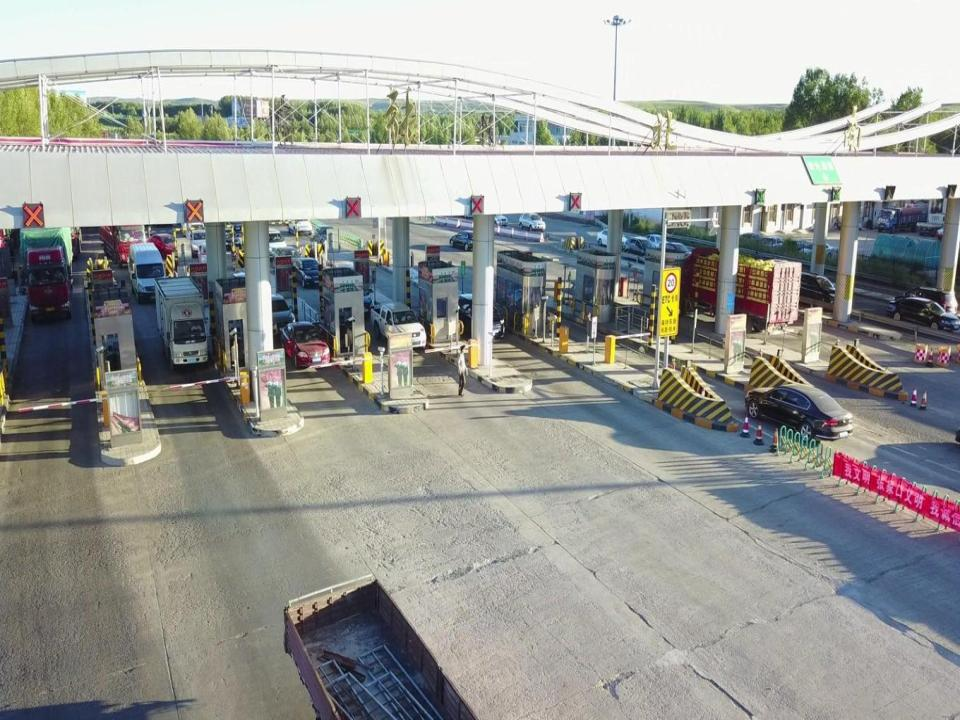car: (745, 383, 853, 441), (450, 294, 505, 340), (886, 297, 960, 331), (281, 321, 330, 368), (892, 286, 957, 319), (331, 278, 375, 326), (253, 292, 294, 342), (656, 242, 698, 270), (146, 233, 190, 259), (622, 236, 660, 264), (293, 256, 323, 286), (198, 243, 221, 276), (639, 234, 672, 257), (596, 228, 629, 250), (271, 246, 302, 269), (450, 230, 482, 250), (518, 212, 546, 231), (192, 229, 212, 255), (220, 229, 241, 253), (288, 216, 312, 234), (483, 210, 508, 227)
truck: (675, 248, 802, 333), (153, 277, 208, 362), (20, 227, 72, 314), (370, 302, 426, 349), (99, 214, 147, 264), (876, 206, 923, 233), (916, 213, 948, 235)
van: (127, 241, 165, 299), (786, 272, 847, 305), (254, 228, 287, 262)
